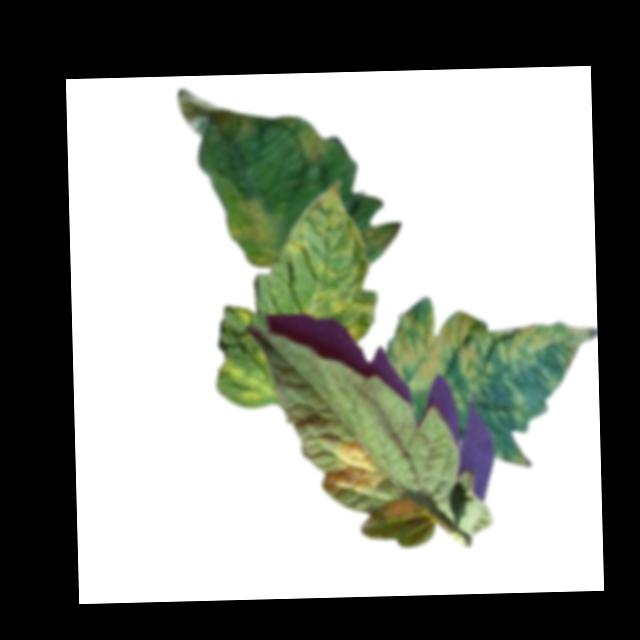Leaf_Mold: (389, 294, 598, 393), (283, 182, 369, 291), (176, 85, 254, 146), (303, 284, 380, 342), (224, 197, 283, 268), (324, 437, 385, 496), (218, 351, 276, 405), (296, 124, 335, 166), (362, 220, 401, 253), (378, 495, 416, 522), (232, 303, 254, 325)
